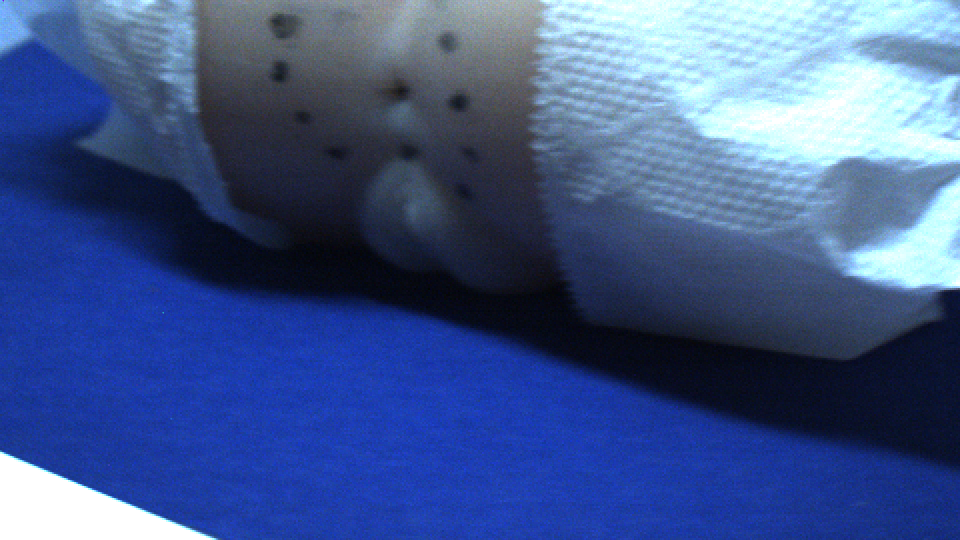asarp_marker: (265, 12, 312, 37), (263, 56, 303, 85), (443, 82, 471, 117), (435, 30, 464, 60), (290, 108, 328, 129), (452, 184, 477, 206), (460, 148, 484, 168), (329, 142, 353, 162), (399, 141, 420, 163)
